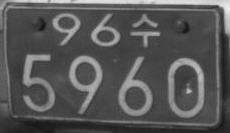0: (167, 56, 205, 119)
5: (20, 53, 57, 113)
6: (117, 54, 153, 116), (89, 13, 121, 48)
9: (68, 53, 104, 115), (51, 11, 82, 45)
수: (129, 12, 160, 48)
